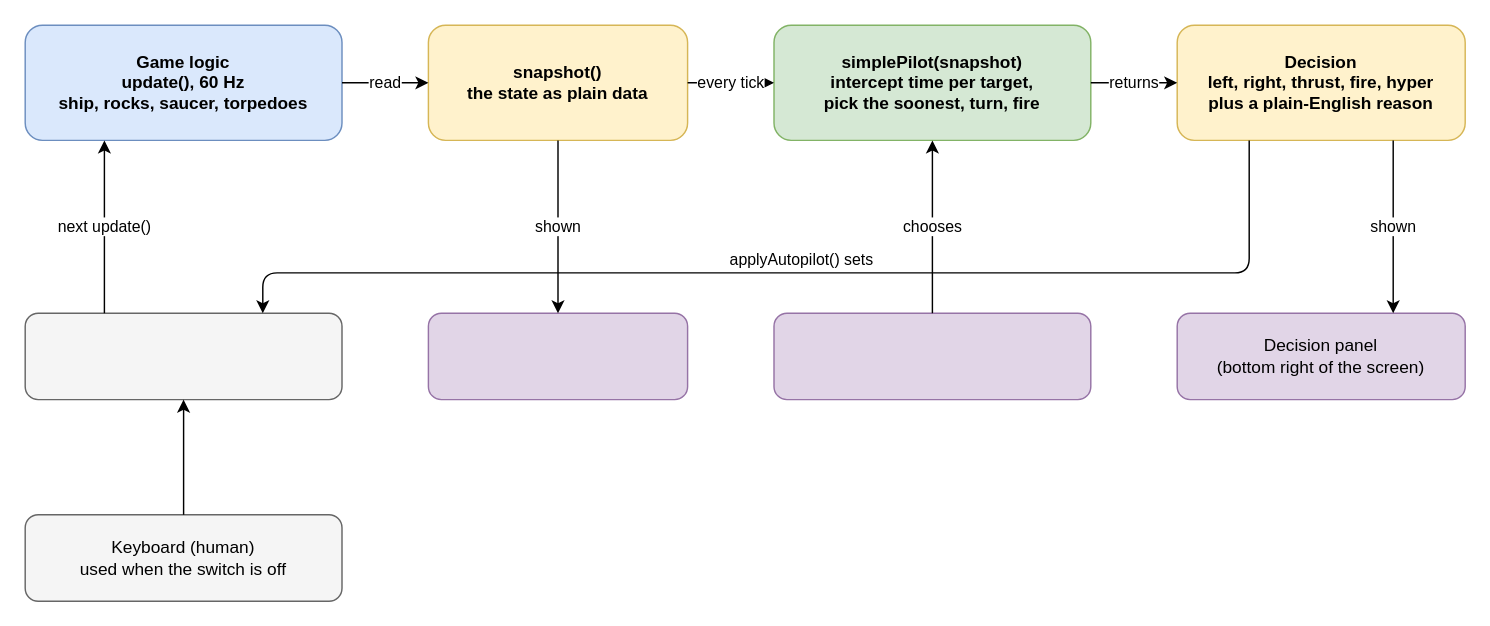
This 1490x626 diagram has some shape labels left out. Here are the shapes that lost their labels. From the top down, the box of each, then its label:
(24, 312, 342, 400): keys[] same input path as the keyboard
(427, 312, 688, 400): State panel (top right of the screen)
(773, 312, 1091, 400): Autopilot switch on: simplePilot, off: null
